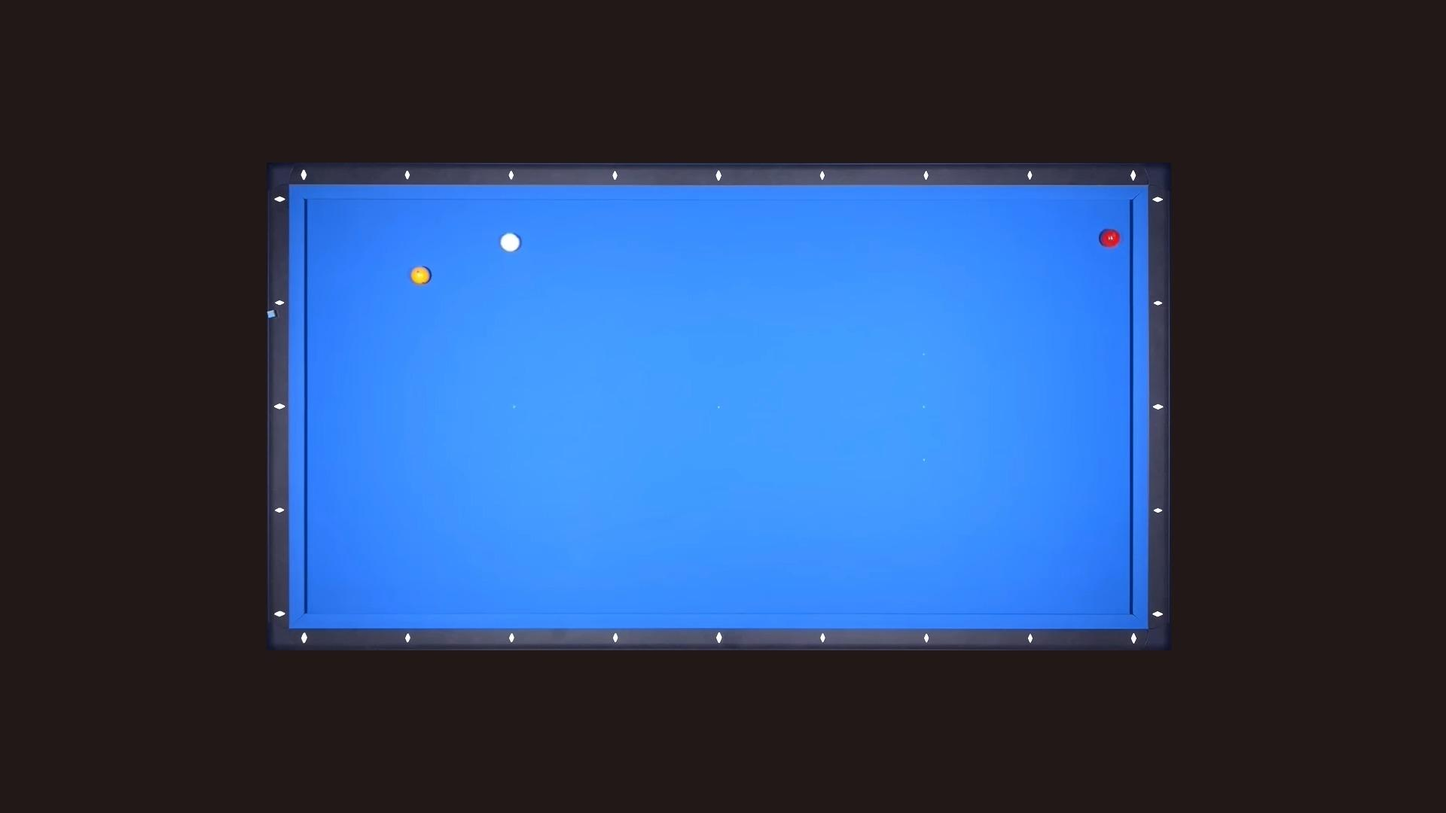-billiard-ball: (409, 265, 430, 285)
Red: (1100, 229, 1124, 248)
White: (497, 232, 521, 253)
Yellow: (407, 266, 432, 286)
